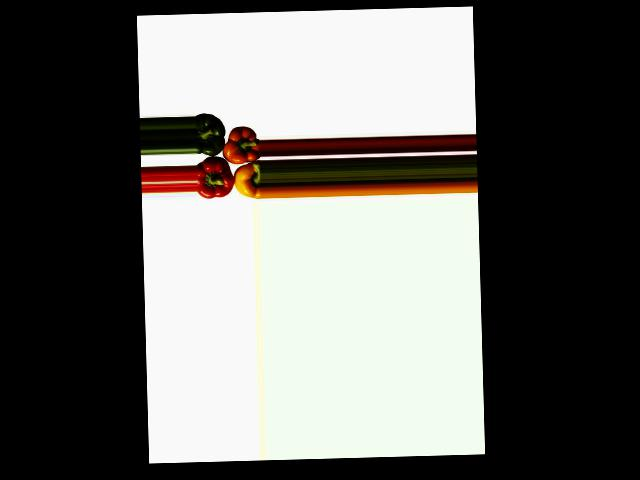bell_pepper: (231, 158, 262, 200)
